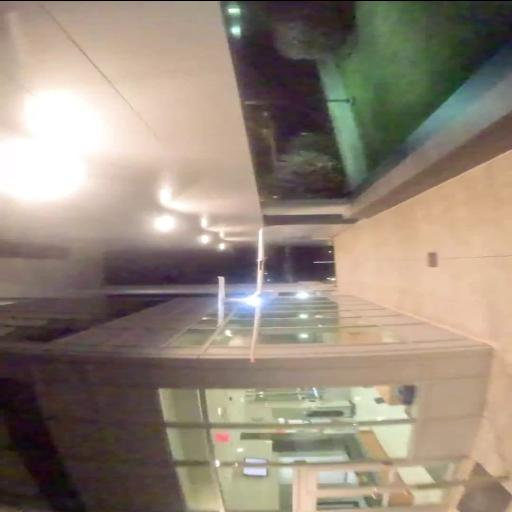uav: (230, 223, 274, 363)
